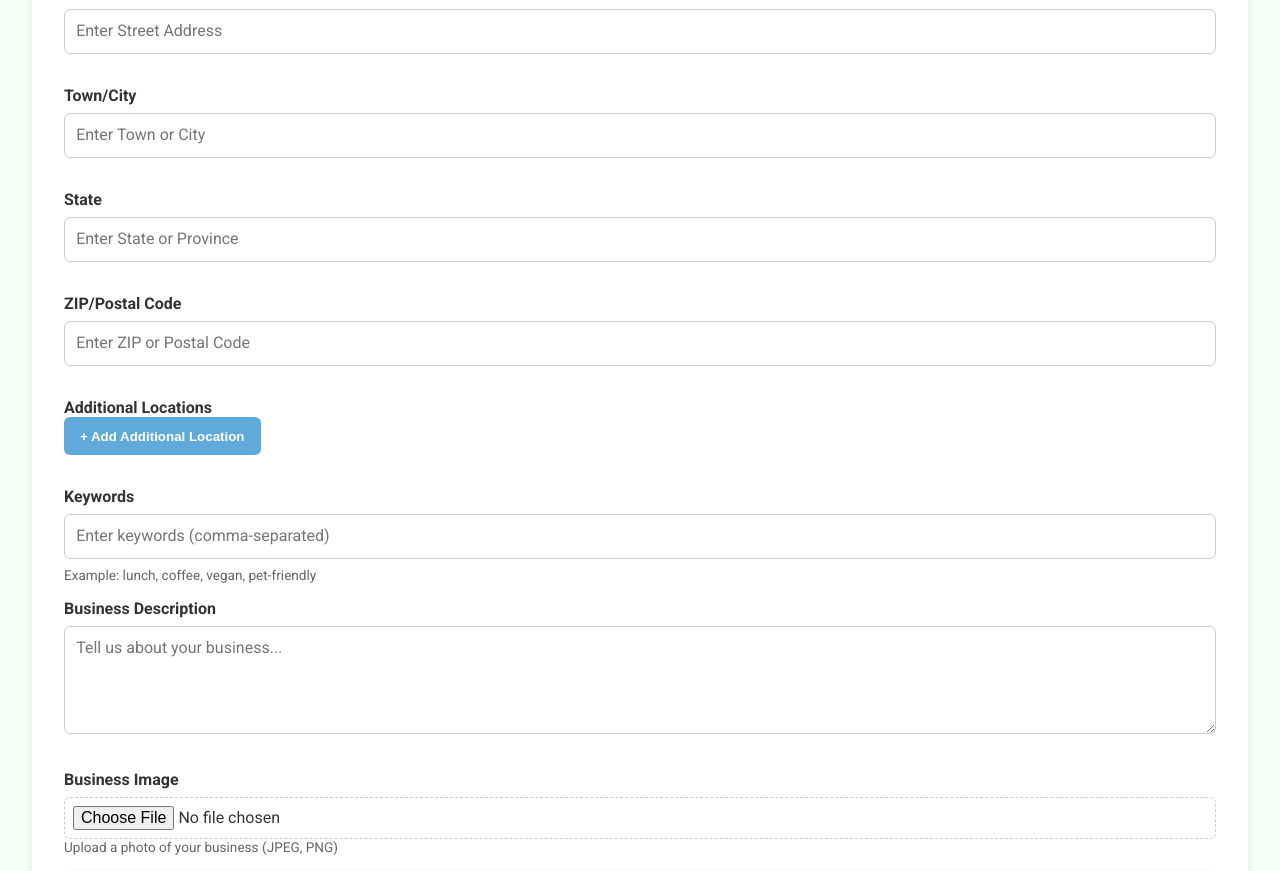
Scenario: Application Component › Additional Locations Modal › should close modal when close button is clicked
(page scrolled)
Step 1. Click the button "+ Add Additional Location" → coordinates (162, 436), box left=64, top=417, right=260, bottom=455
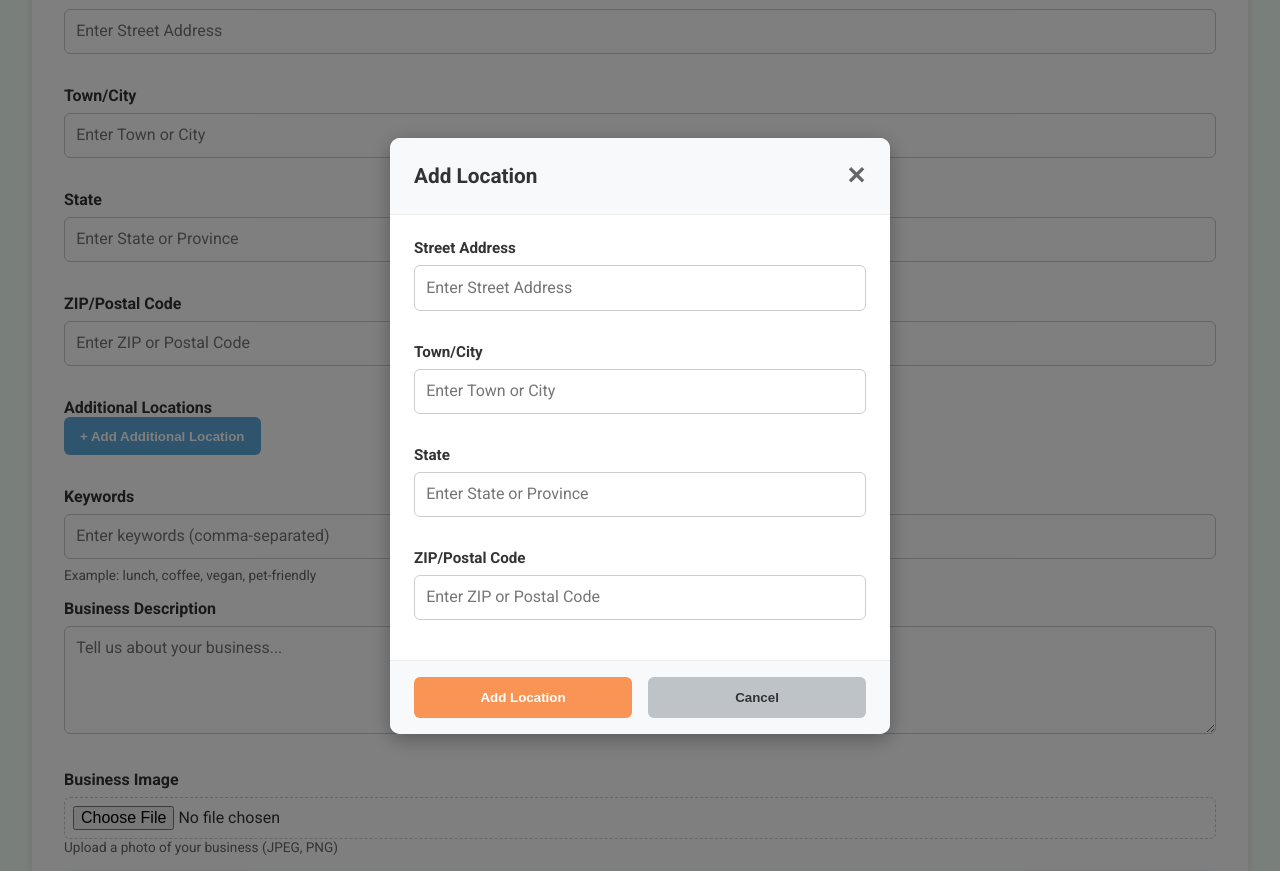
Step 2. Click the button "✕" → coordinates (856, 176), box left=846, top=162, right=866, bottom=190
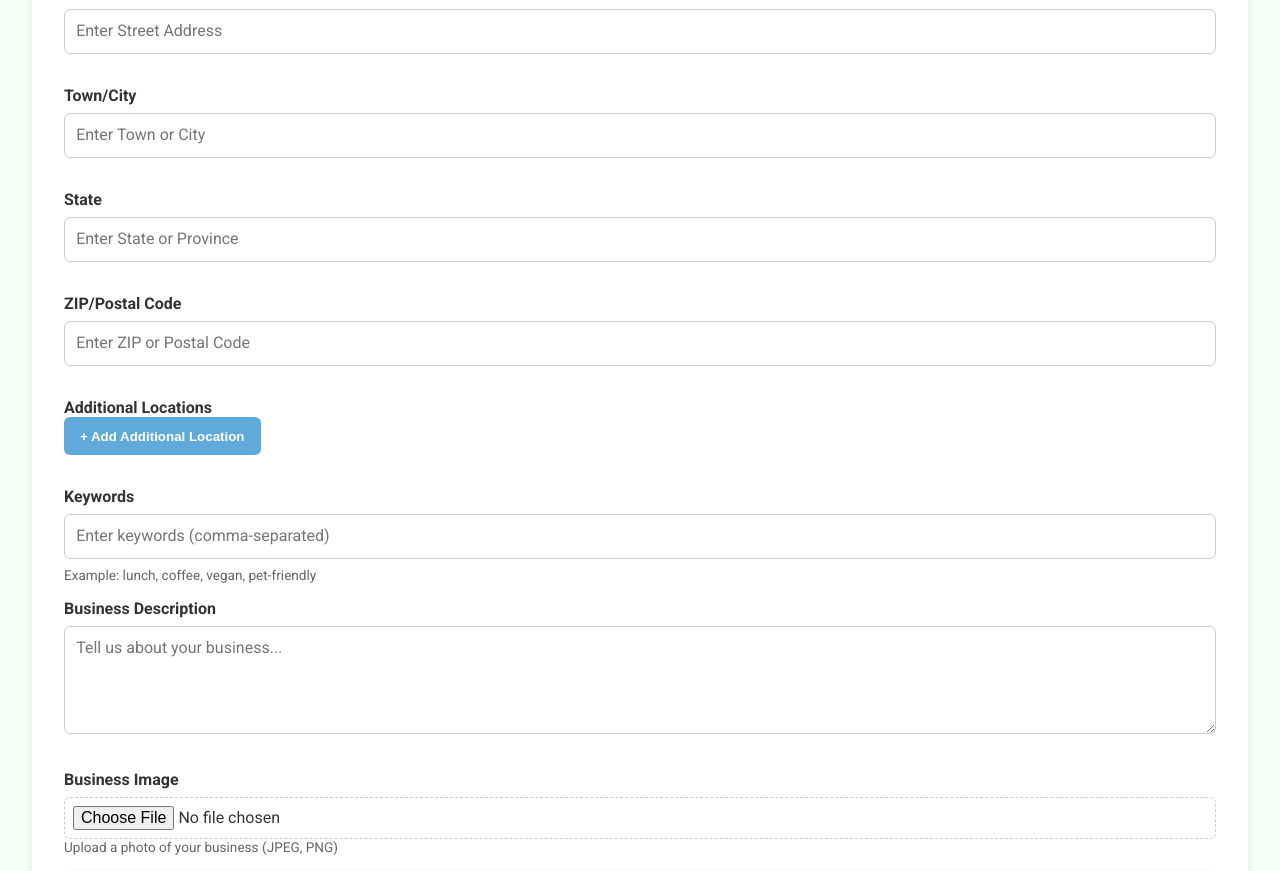
Check: the heading "Add Location" is gone
